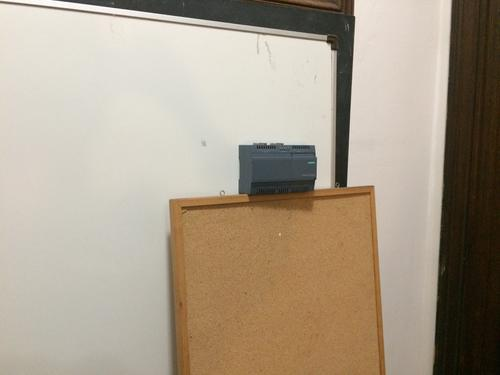iot2000: (236, 140, 320, 196)
